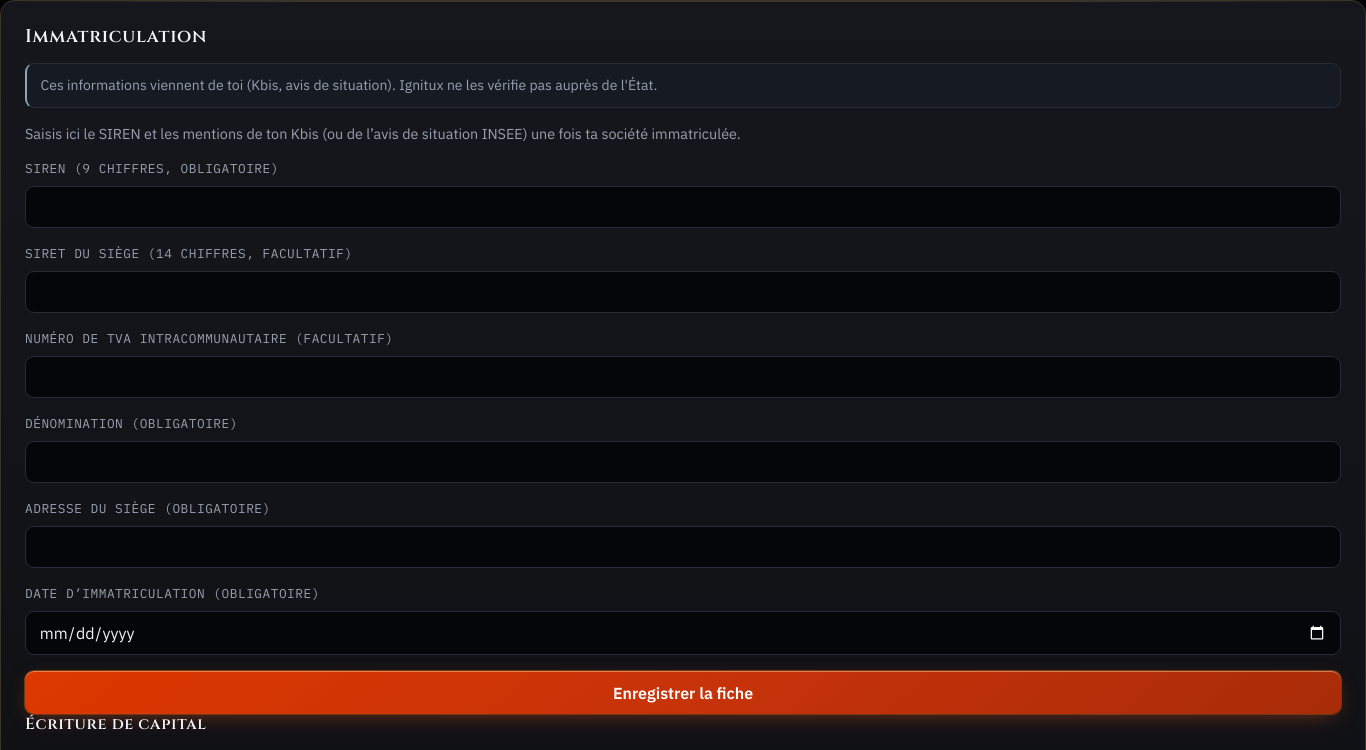
Test: ImmatriculationSection › rattache chaque erreur du serveur à son champ (aria-invalid, description), le reste dans l’alerte
In the field labelled "SIREN (9 chiffres, obligatoire)": (683, 207) [25,186,1341,228], type "732829320"
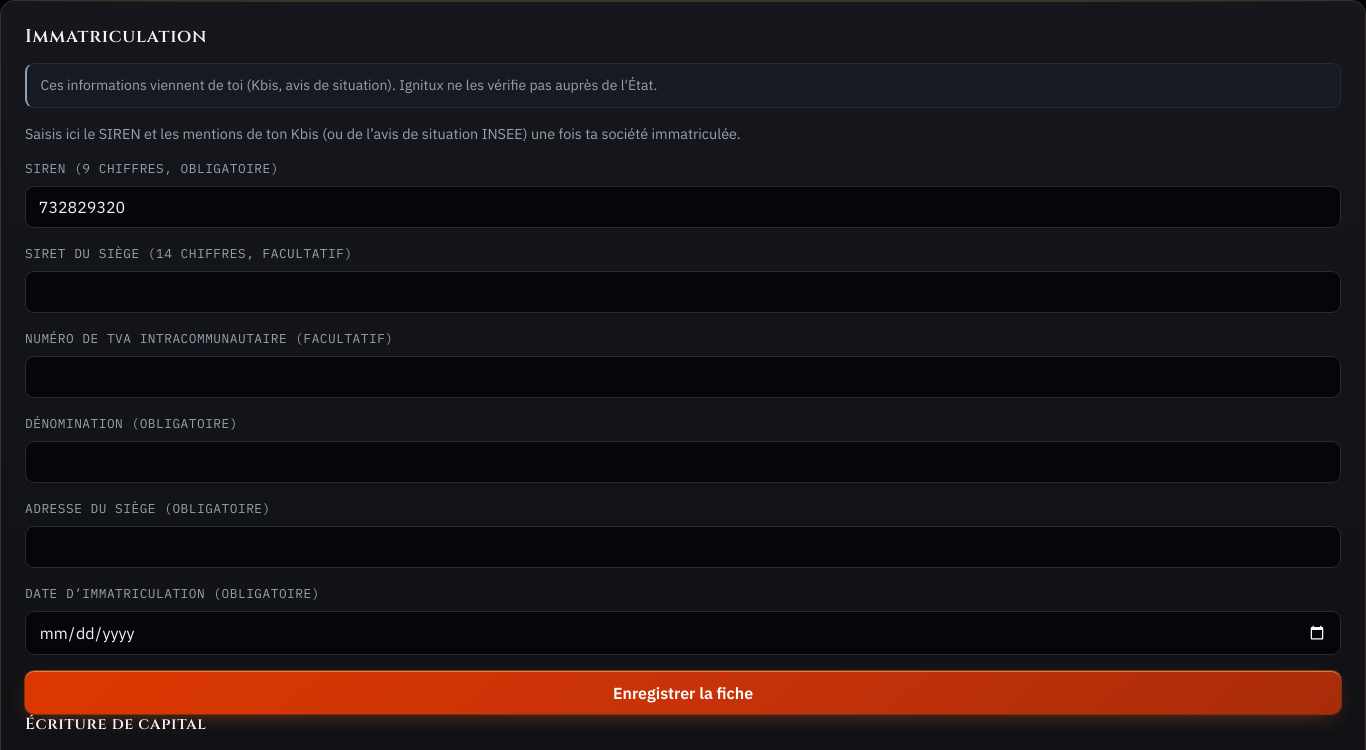
In the field labelled "Dénomination (obligatoire)": (683, 462) [25,441,1341,483], type "Moto École SAS"
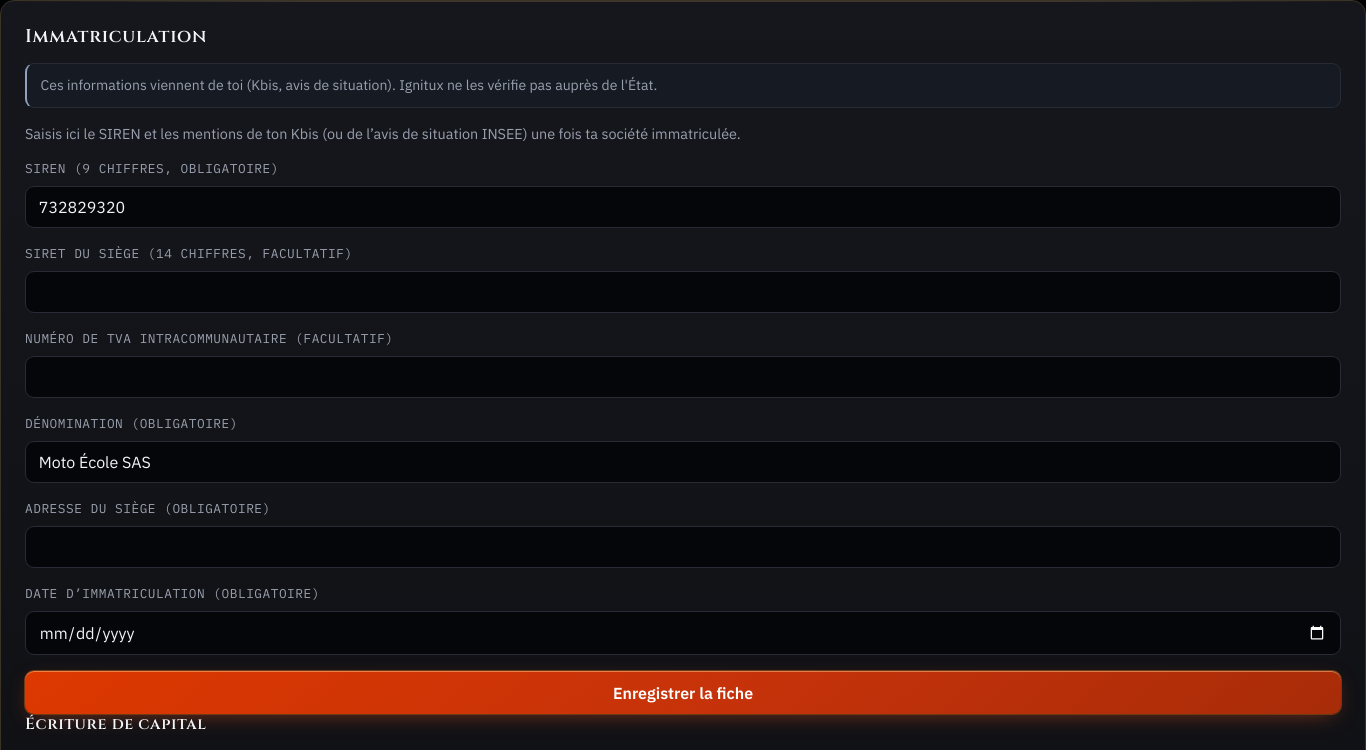
In the field labelled "Adresse du siège (obligatoire)": (683, 547) [25,526,1341,568], type "1 rue de la Piste"
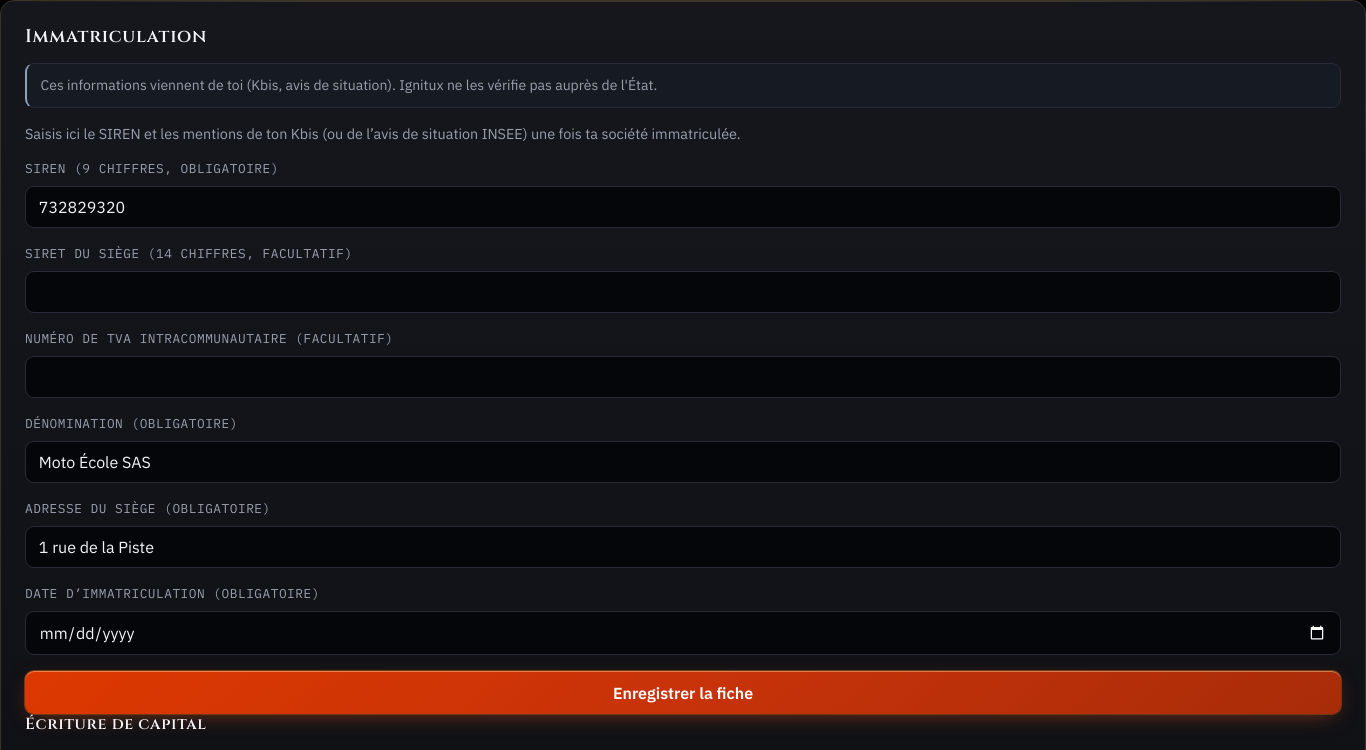
In the date field labelled "Date d’immatriculation (obligatoire)": (683, 633) [25,611,1341,655], type "2026-10-01"
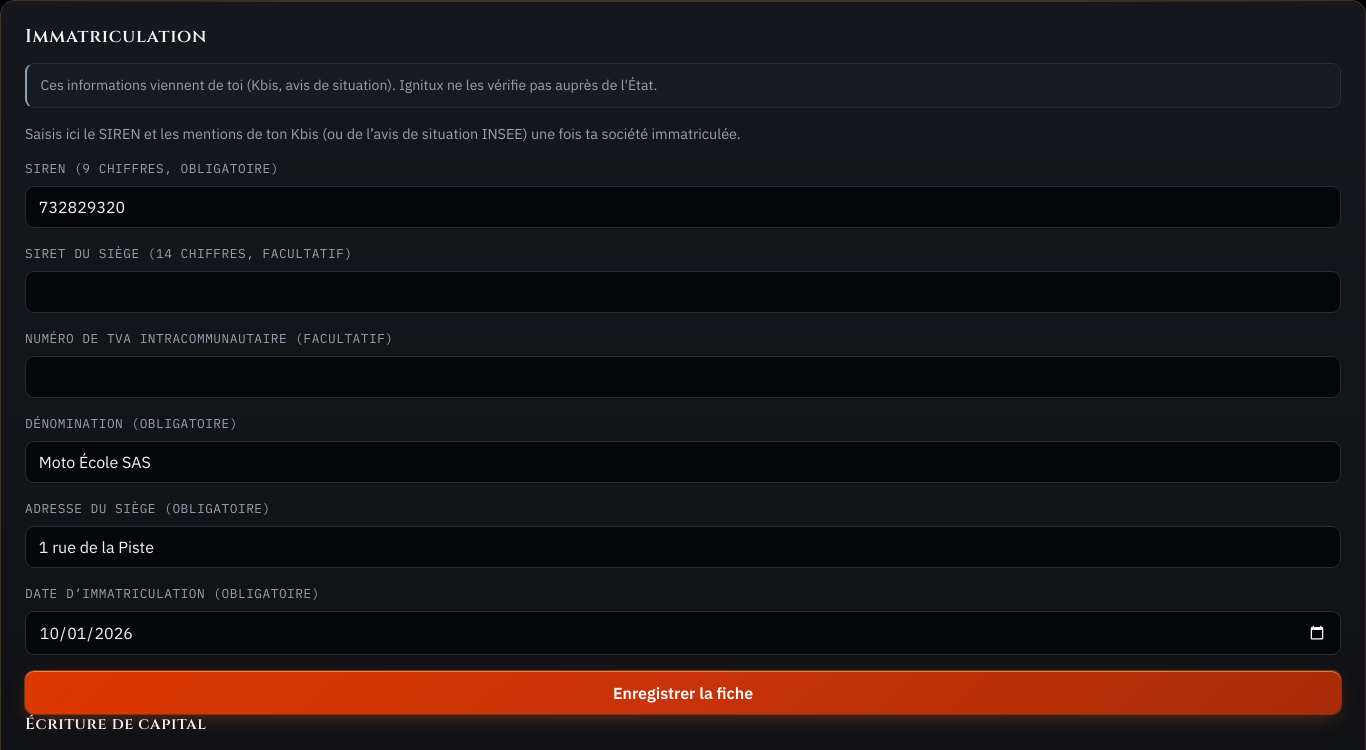
Click the button "Enregistrer la fiche": (683, 693) [25,671,1341,714]
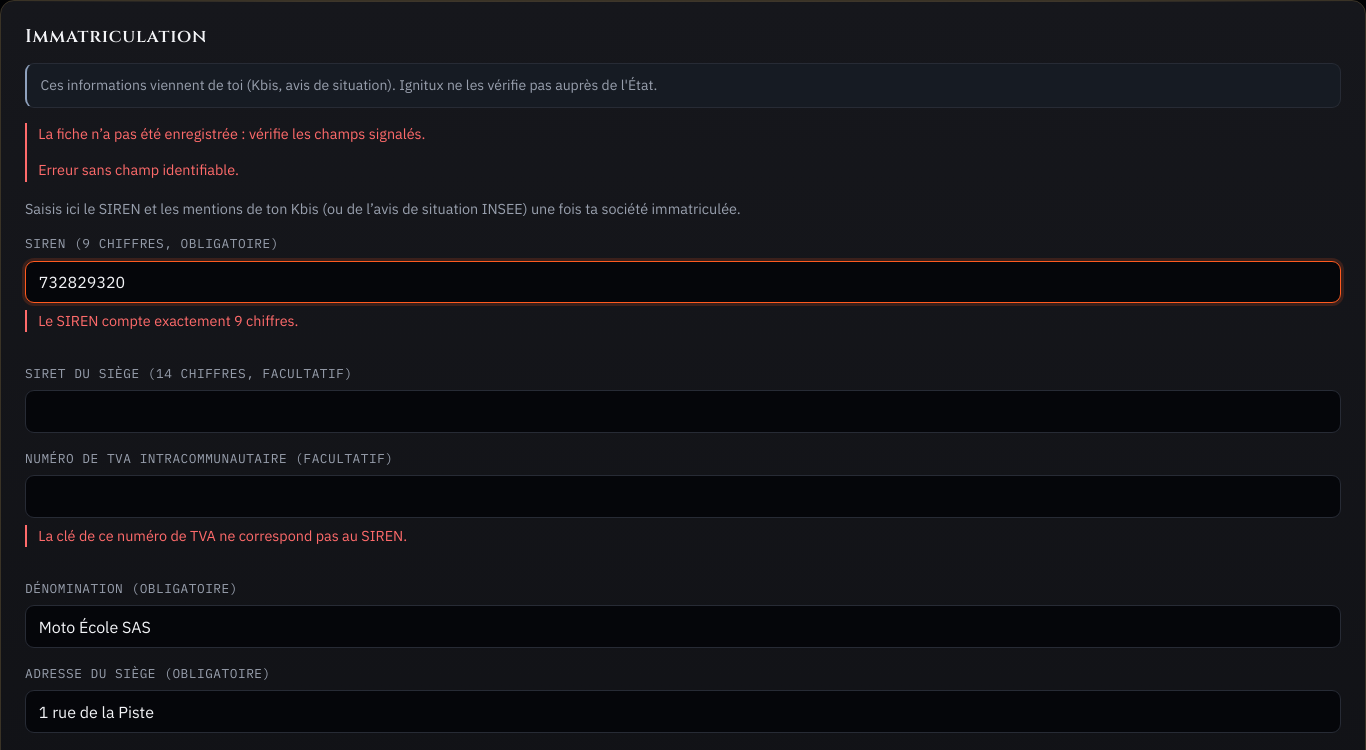
Expected: the text "Erreur sans champ identifiable." is shown, [38,160,239,179]
Expected: the text "vérifie les champs signalés" is shown, [38,124,426,143]
